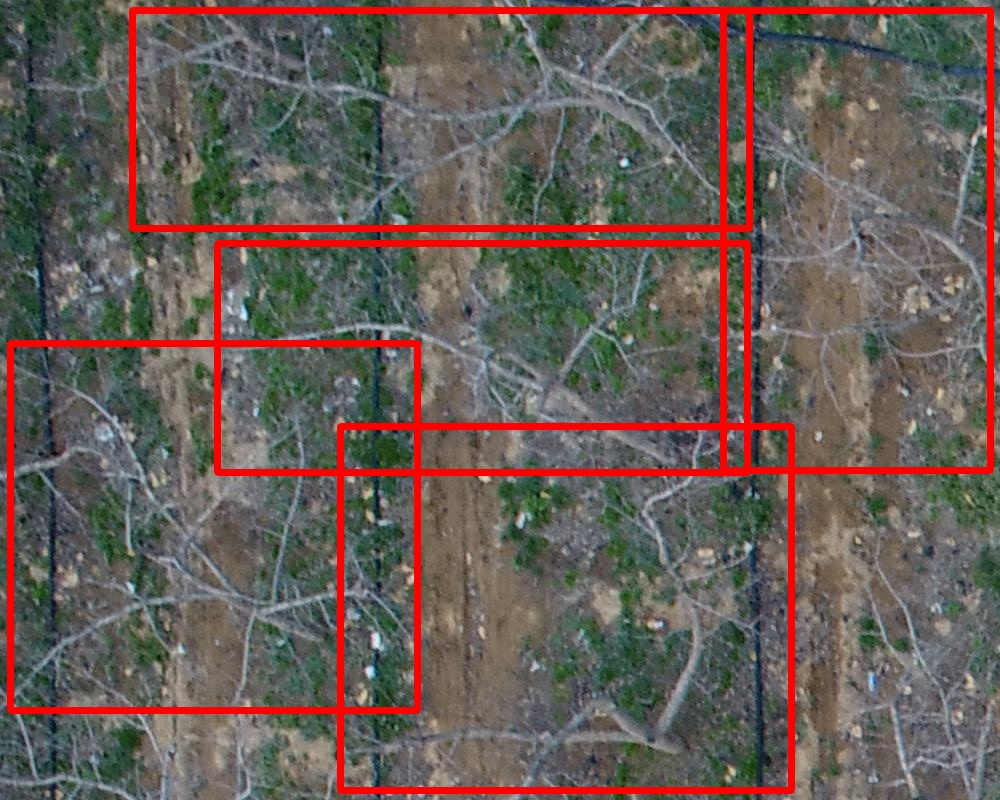apple: (340, 426, 791, 790), (10, 343, 417, 710), (132, 10, 749, 228), (723, 10, 990, 470), (217, 243, 747, 472)
